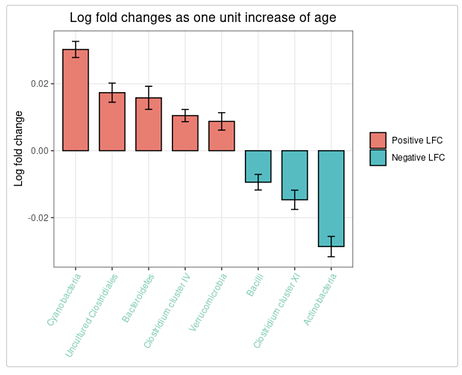OK_NoIssue: (12, 8, 451, 363)
